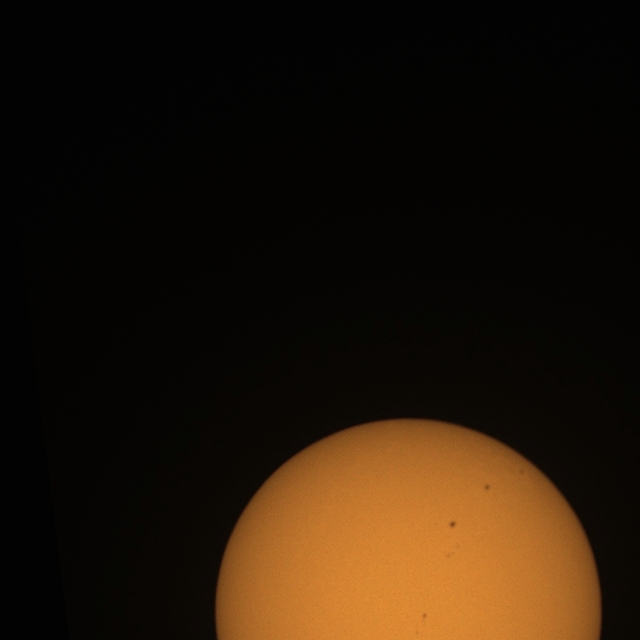sunspot: (445, 550, 454, 560), (483, 483, 492, 492), (448, 520, 457, 529), (421, 612, 428, 620)
